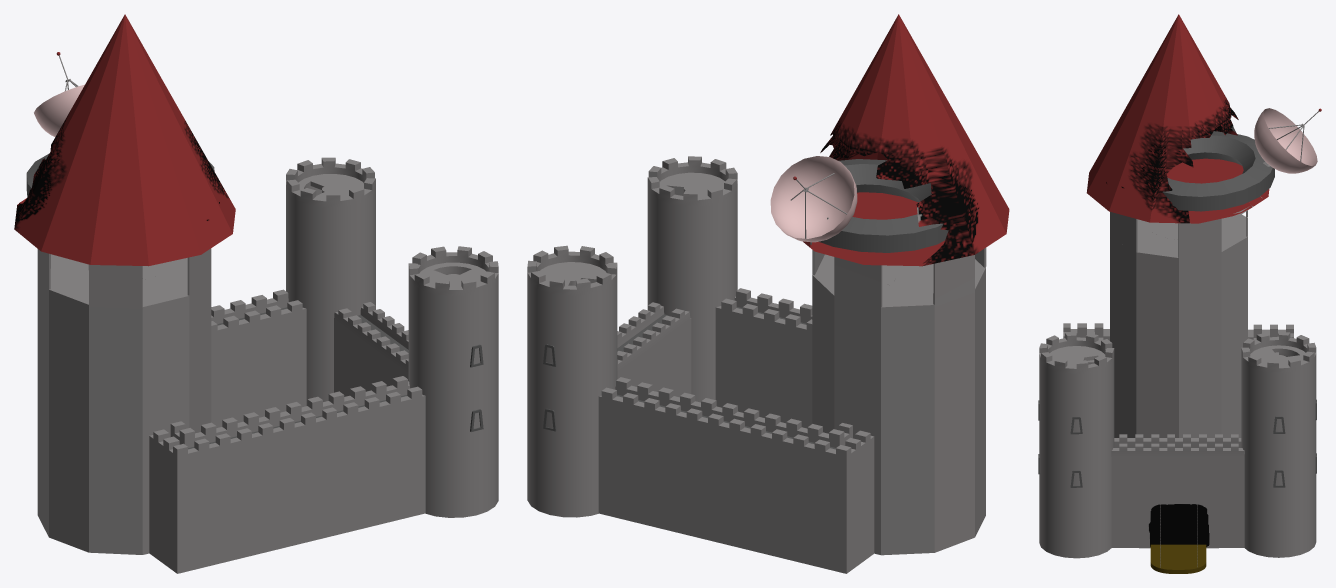
Rendered from Computercastev4.1.fbx.
The picture shows the model from 3 angles, left to right: view 1: azimuth 30°, elevation 25°; view 2: azimuth 150°, elevation 25°; view 3: azimuth 270°, elevation 25°; orthographic projection. The views are drawn at different scales.
Visible parts, largest first — view 1: polySurface12, polySurface9; view 2: polySurface12, polySurface9; view 3: polySurface12, polySurface9.
Part boxes in pixels (x1,y1,x2,y2): polySurface12: (14,14,498,573); polySurface9: (34,52,84,136); polySurface12: (527,14,1009,573); polySurface9: (770,156,857,242); polySurface12: (1038,14,1316,573); polySurface9: (1254,108,1321,173).
Bounding box in the file's own units: 35.03 × 38.51 × 23.53.
Materials: 1 (1 with a texture image).
